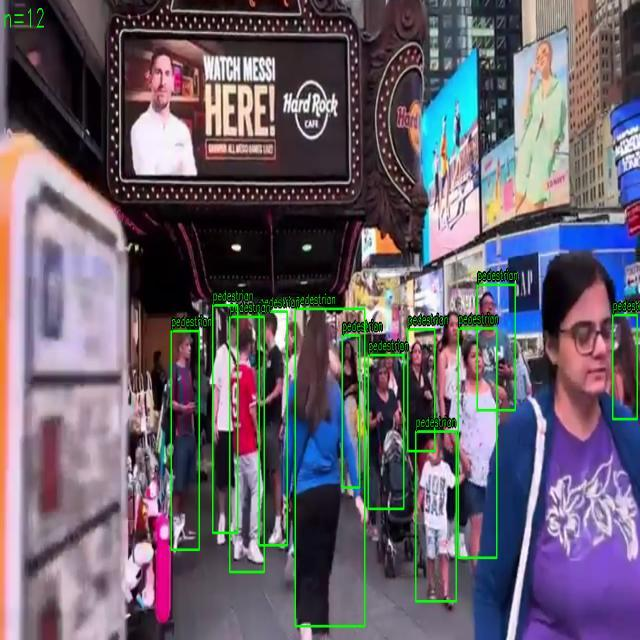with scooter: (295, 308, 365, 626), (458, 328, 497, 558), (230, 316, 264, 572), (258, 311, 288, 546), (416, 431, 456, 602), (170, 330, 200, 550), (212, 304, 238, 534), (368, 354, 404, 510), (477, 284, 515, 410), (407, 328, 435, 452), (612, 314, 638, 420), (342, 335, 360, 488)
